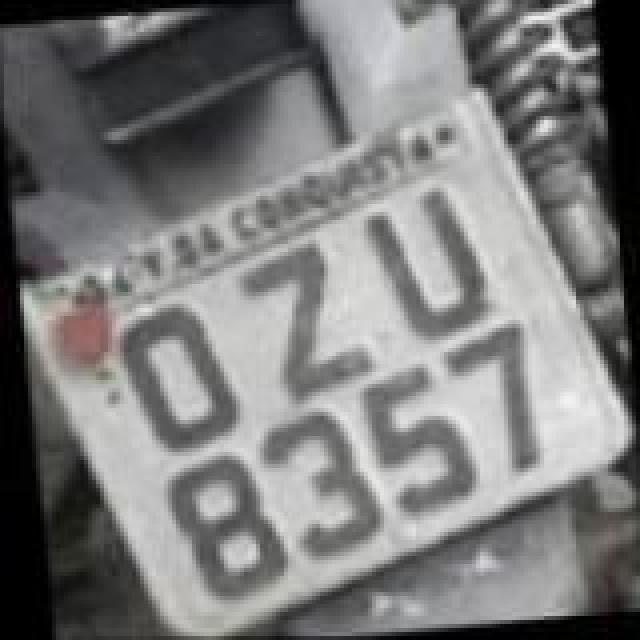3: (256, 402, 392, 570)
5: (356, 356, 484, 516)
7: (436, 322, 544, 486)
8: (162, 452, 290, 604)
O: (114, 294, 246, 458)
U: (356, 172, 500, 348)
Z: (230, 240, 378, 412)
